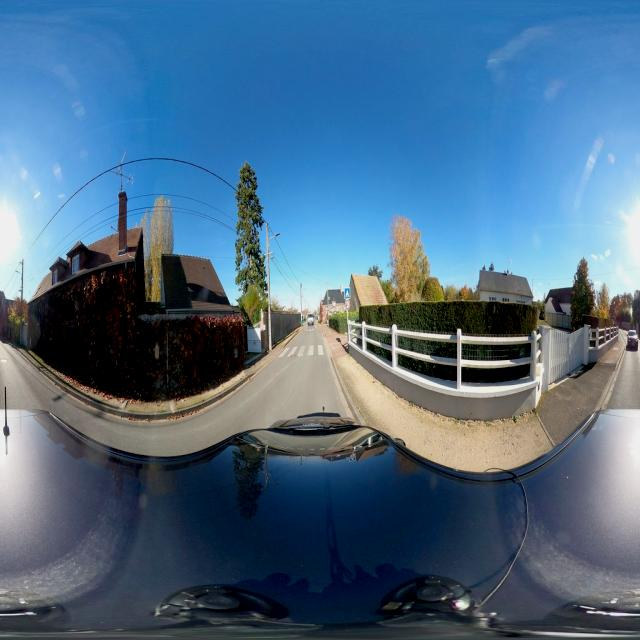car: (626, 329, 639, 352), (598, 328, 606, 344)
